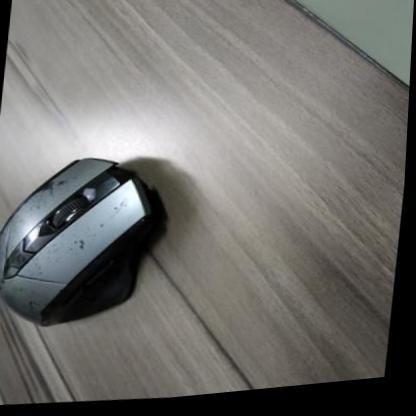mouserotation: (0, 147, 168, 337)
